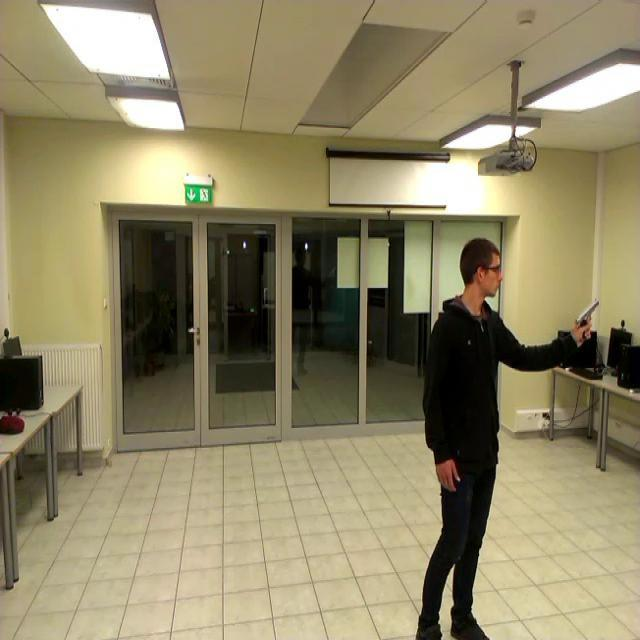weapon: (576, 299, 600, 343)
